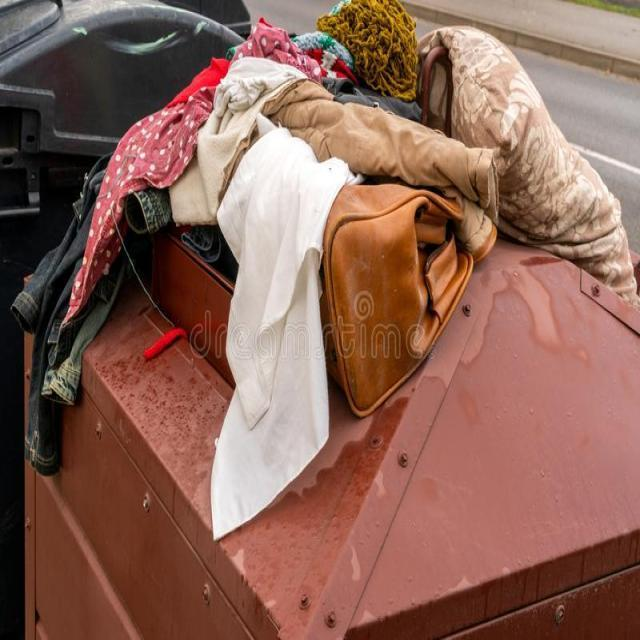clothes: (118, 67, 516, 365)
